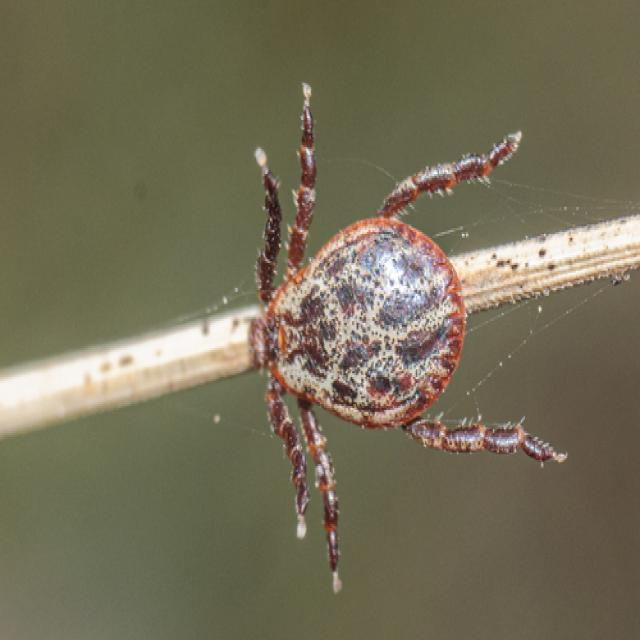Dermacentor Reticulatus-M: (251, 83, 566, 593)
